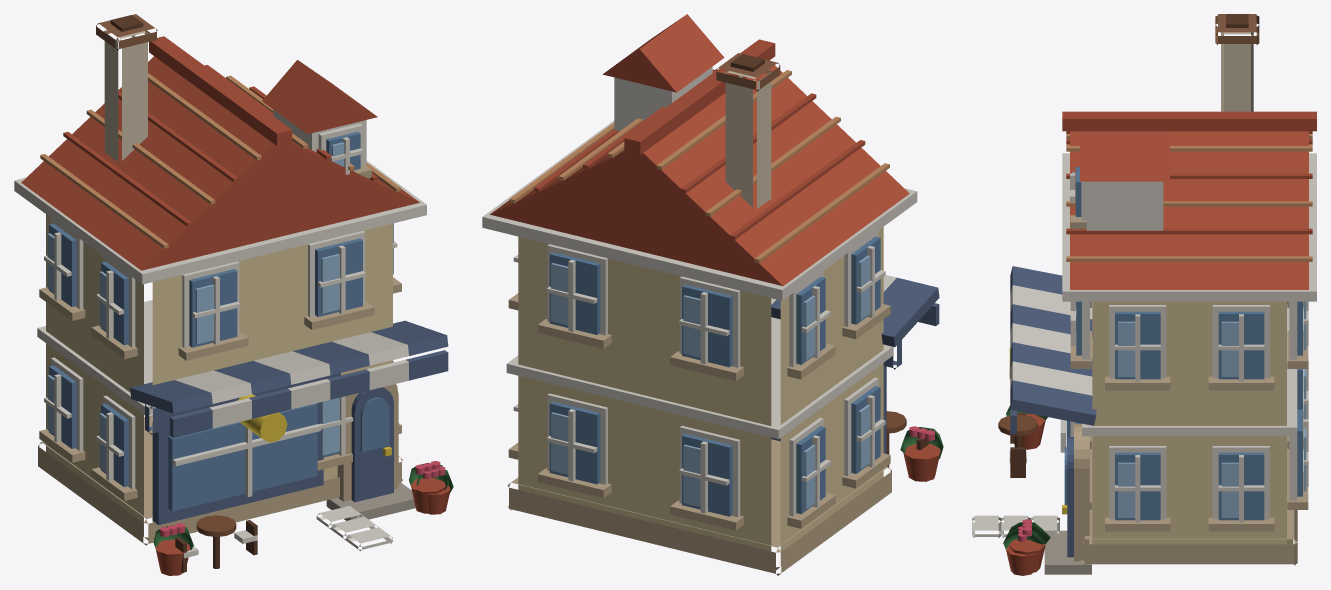
The model's file is shop-c.glb.
3 renders of one model, left to right at view 1: azimuth 30°, elevation 25°; view 2: azimuth 150°, elevation 25°; view 3: azimuth 270°, elevation 25°, orthographic. The views are drawn at different scales.
Visible parts, largest first — view 1: shop-c; view 2: shop-c; view 3: shop-c.
Part boxes in pixels (box(x1,y1,x2,y2)): shop-c: box(14, 14, 453, 575); shop-c: box(482, 14, 943, 575); shop-c: box(972, 14, 1316, 575).
Bounding box in the file's own units: 0.8358 × 1.26 × 0.86.
